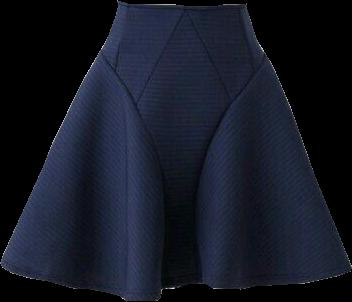Hemline: (0, 261, 161, 300), (202, 268, 351, 289)
Waistline: (196, 52, 267, 283), (99, 49, 166, 289), (118, 1, 246, 9)
